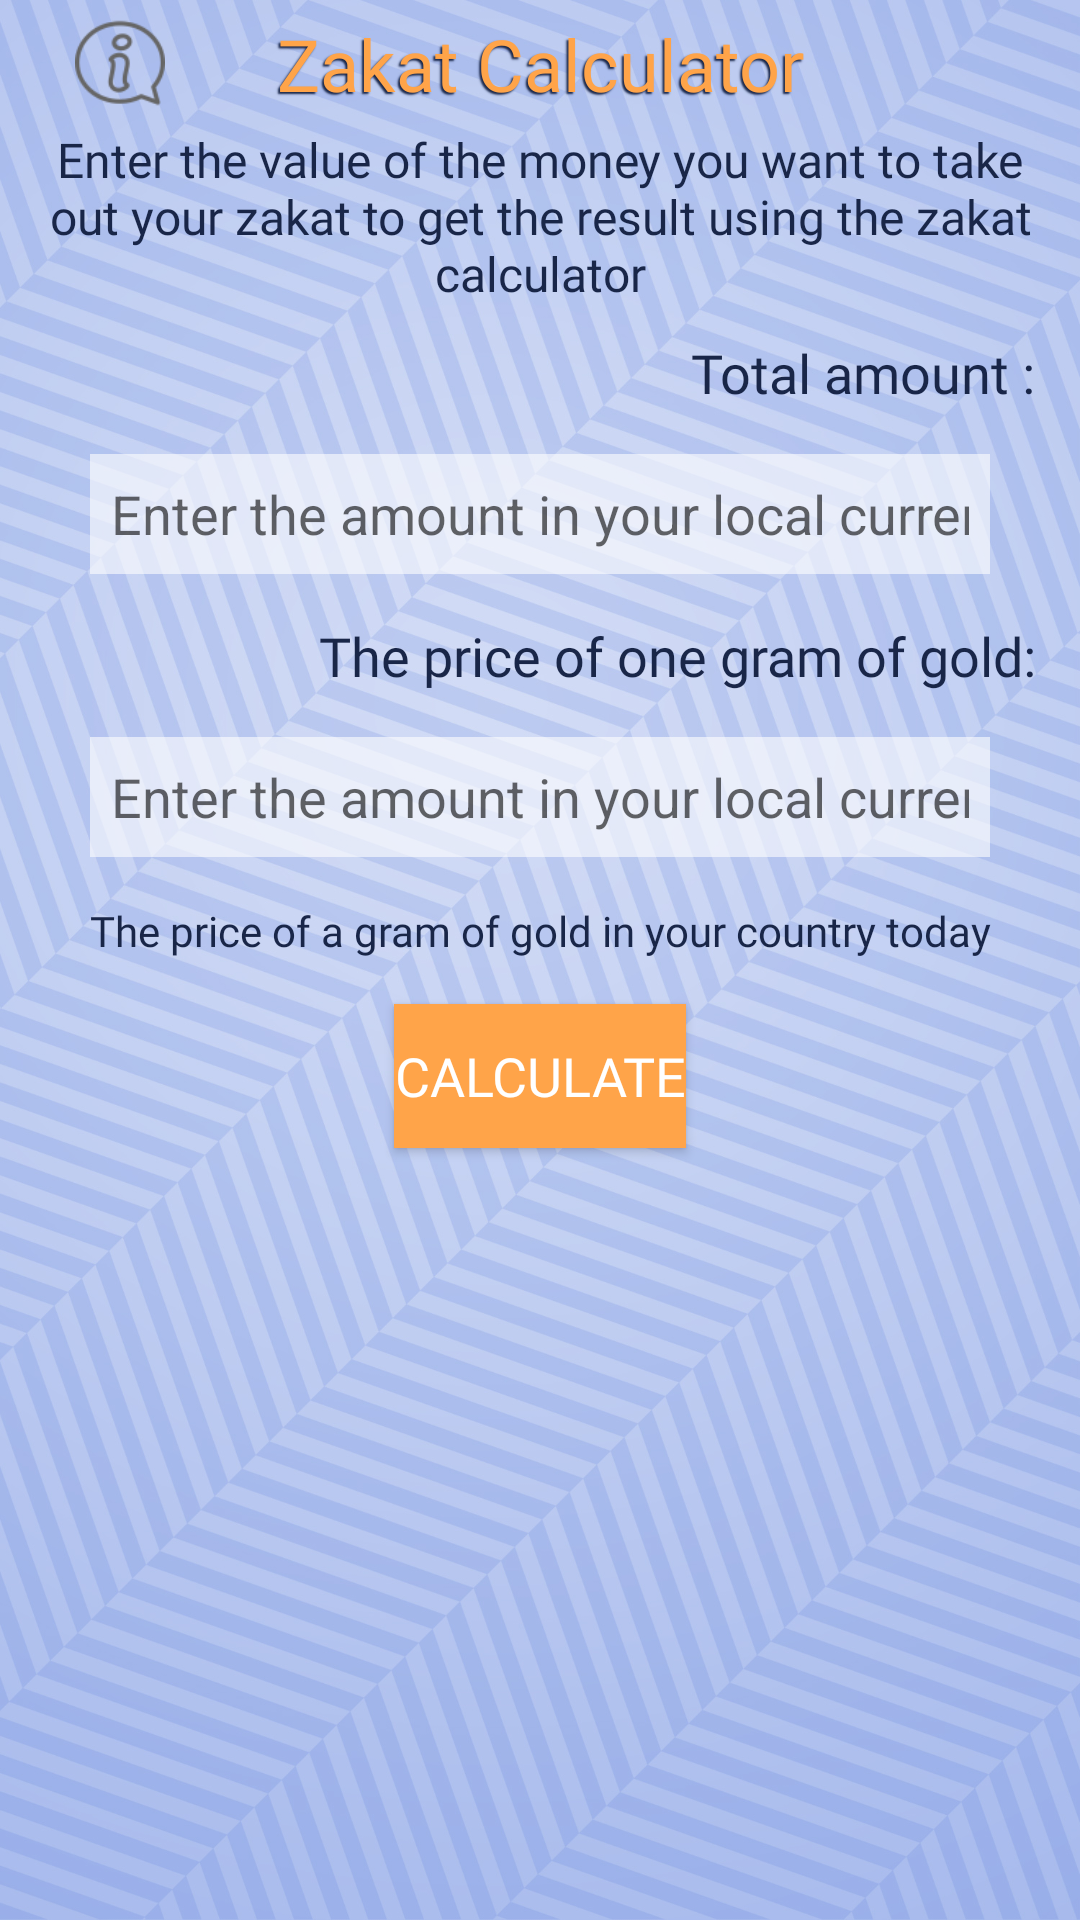

Icon click points for this 1080×1920 phone screenshot, format (x,y):
information: (120,62)
